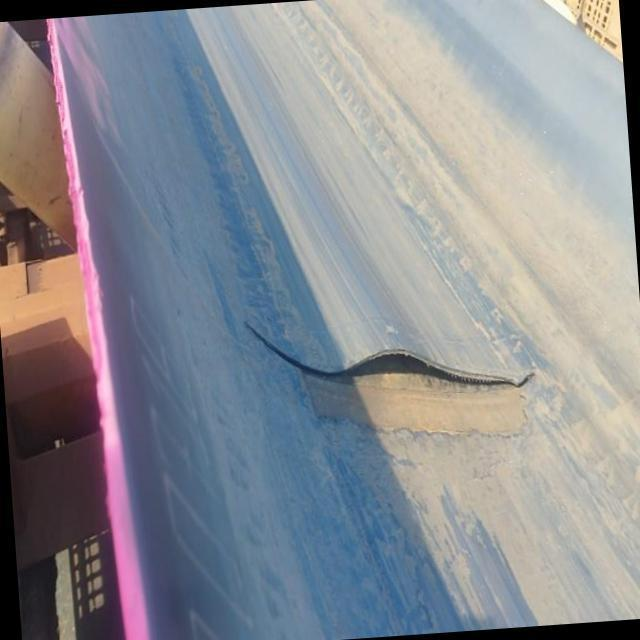Tear: (240, 316, 538, 396)
